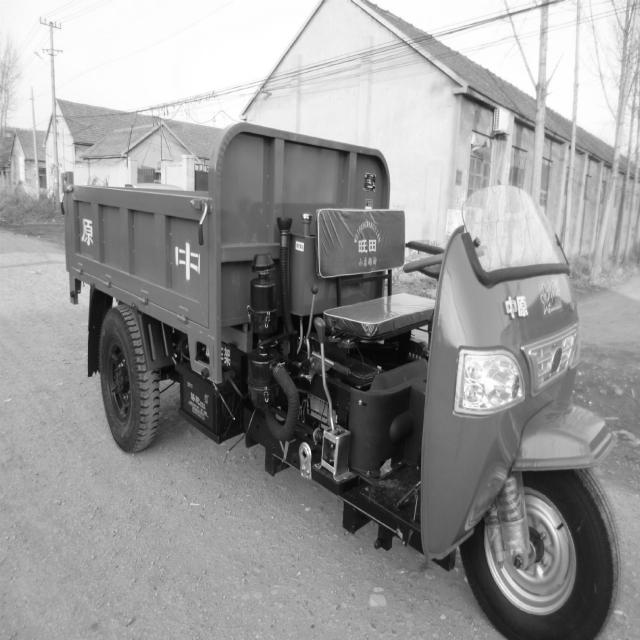tricycle: (62, 118, 624, 636)
